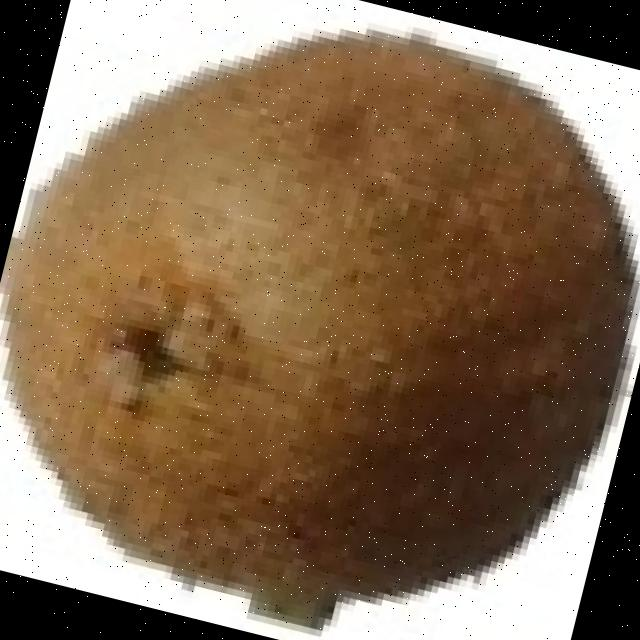kiwi: (2, 22, 626, 613)
